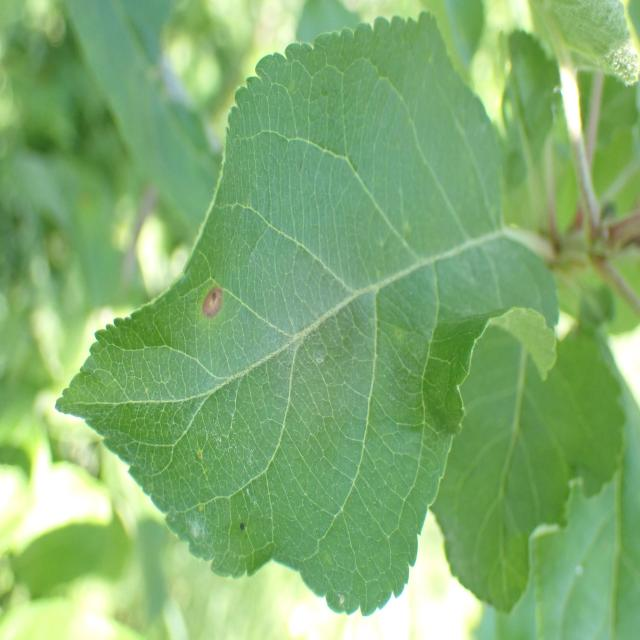frog-eye-leaf-spot: (57, 16, 559, 619)
